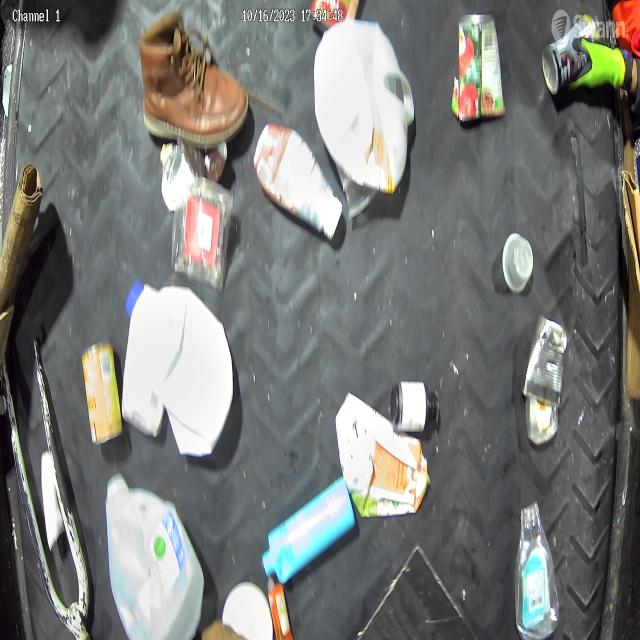can: (456, 13, 503, 126), (80, 344, 121, 440)
milk_jug: (122, 278, 234, 454), (314, 20, 413, 196), (108, 467, 202, 640), (522, 316, 568, 404)
